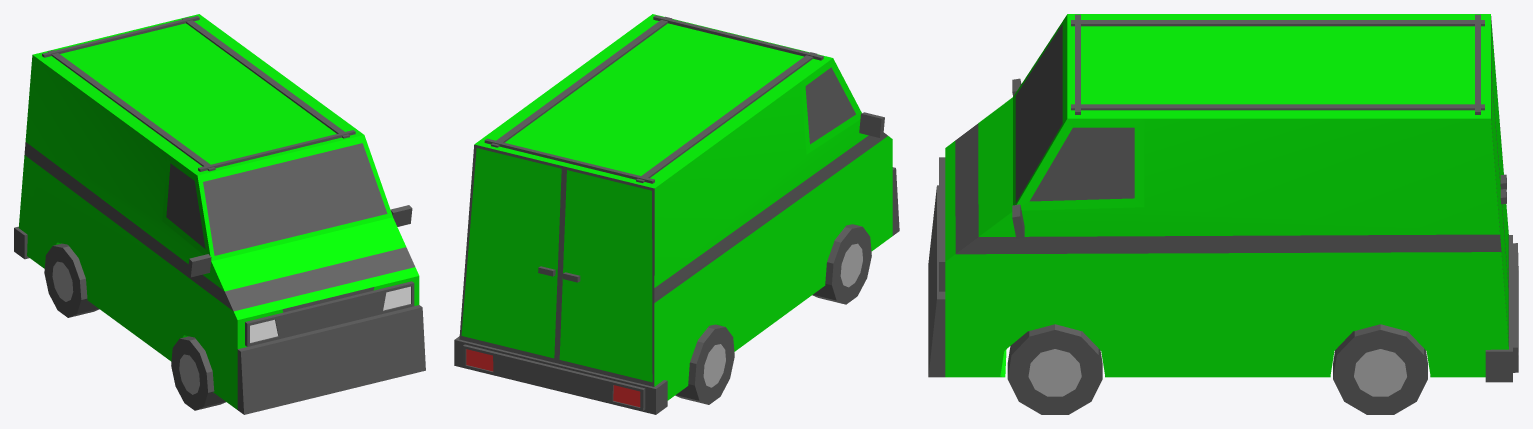
File: SM_Car_04_03.FBX
The picture shows the model from 3 angles, left to right: view 1: azimuth 30°, elevation 25°; view 2: azimuth 150°, elevation 25°; view 3: azimuth 270°, elevation 25°; orthographic projection. The views are drawn at different scales.
Parts seen in each view (by area): view 1: SM_Car_04_03, SM_Wheel_RBack001, SM_Wheel_LFront002; view 2: SM_Car_04_03, SM_Wheel_RBack001, SM_Wheel_LFront002; view 3: SM_Car_04_03, SM_Wheel_LFront001, SM_Wheel_LBack001.
Boxes of the visible parts, left/top/right/bottom form: SM_Car_04_03: left=14, top=14, right=425, bottom=414; SM_Wheel_RBack001: left=44, top=243, right=99, bottom=317; SM_Wheel_LFront002: left=171, top=336, right=225, bottom=410; SM_Car_04_03: left=454, top=14, right=899, bottom=414; SM_Wheel_RBack001: left=675, top=324, right=734, bottom=404; SM_Wheel_LFront002: left=812, top=224, right=871, bottom=304; SM_Car_04_03: left=928, top=14, right=1518, bottom=382; SM_Wheel_LFront001: left=1007, top=324, right=1102, bottom=414; SM_Wheel_LBack001: left=1333, top=324, right=1427, bottom=414.
Bounding box in the file's own units: 1.7 × 1.68 × 3.08.
Materials: 1 (1 with a texture image).
